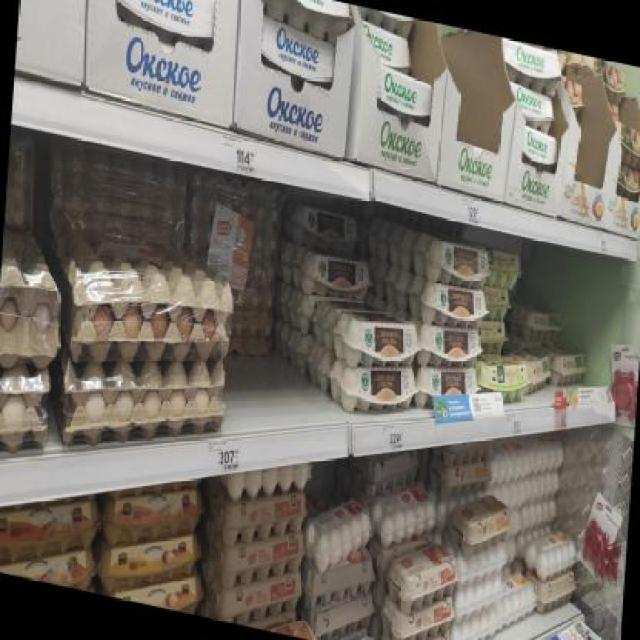Egg: (333, 300, 422, 377), (330, 352, 419, 426), (257, 16, 338, 87), (292, 241, 374, 308), (411, 229, 494, 294), (408, 271, 489, 335), (280, 195, 363, 256), (108, 0, 218, 46), (413, 358, 482, 418), (416, 318, 484, 377), (497, 37, 563, 94), (376, 64, 433, 122), (507, 79, 556, 124), (520, 124, 558, 170)
